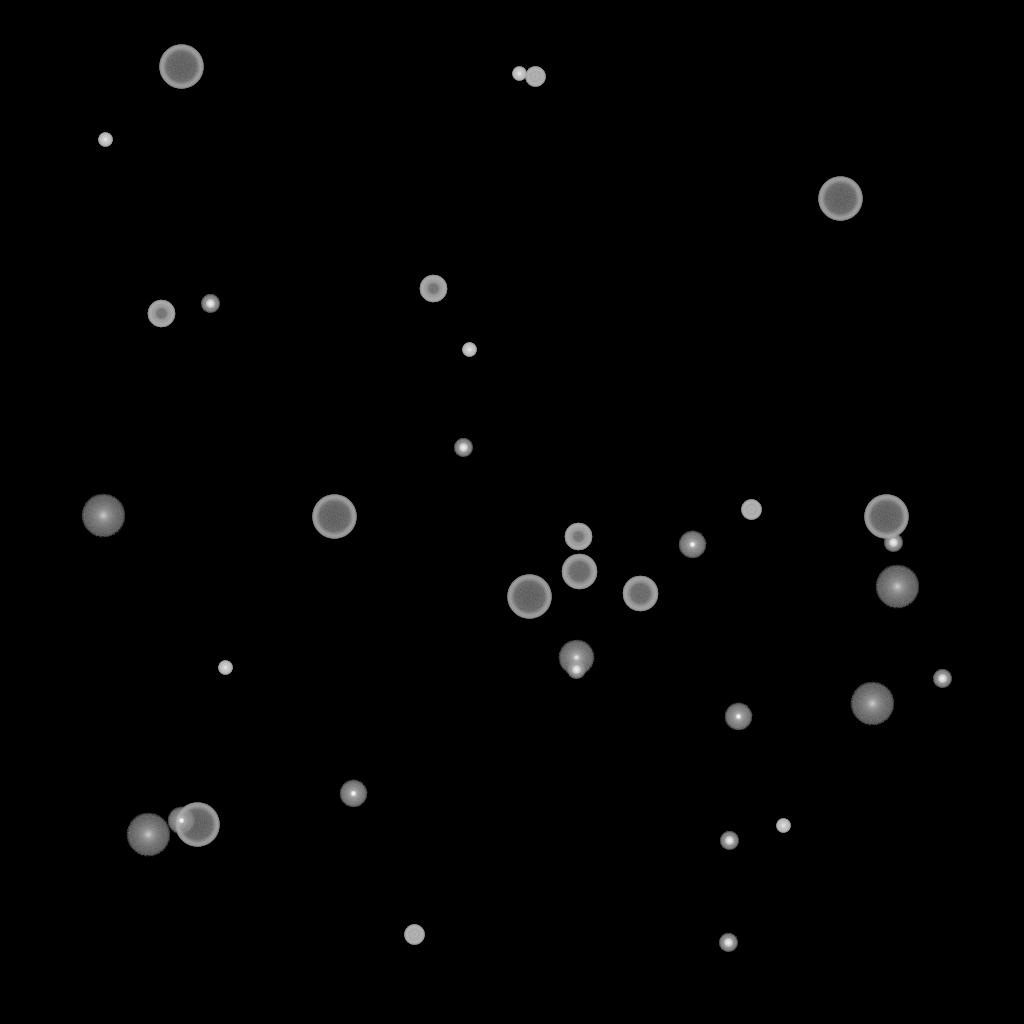depth:-10: (339, 780, 367, 808), (167, 807, 195, 835), (678, 531, 706, 559), (724, 703, 752, 731)
depth:-20: (454, 439, 472, 457), (933, 670, 951, 688), (567, 661, 585, 679), (720, 832, 738, 850), (884, 534, 902, 552), (201, 295, 219, 313), (719, 934, 737, 952)
depth:-30: (98, 133, 112, 147), (776, 819, 790, 833), (462, 343, 476, 357), (512, 67, 526, 81), (218, 661, 232, 675)
depth:-40: (525, 67, 545, 87), (404, 925, 424, 945), (741, 500, 761, 520)
depth:-50: (147, 300, 175, 328), (564, 523, 592, 551), (419, 275, 447, 303)
depth:-60: (622, 576, 658, 612), (561, 554, 597, 590)
depth:-70: (507, 575, 551, 619), (175, 803, 219, 847), (159, 45, 203, 89), (864, 495, 908, 539), (818, 177, 862, 221), (312, 495, 356, 539)
depth:0: (558, 640, 594, 676)
depth:10: (850, 682, 894, 726), (81, 494, 125, 538), (875, 565, 919, 609), (126, 813, 170, 857)
